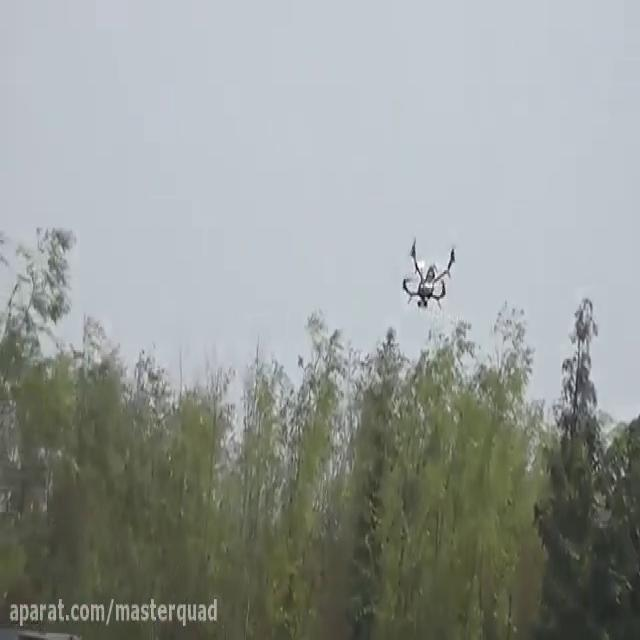drone: (397, 229, 461, 311)
